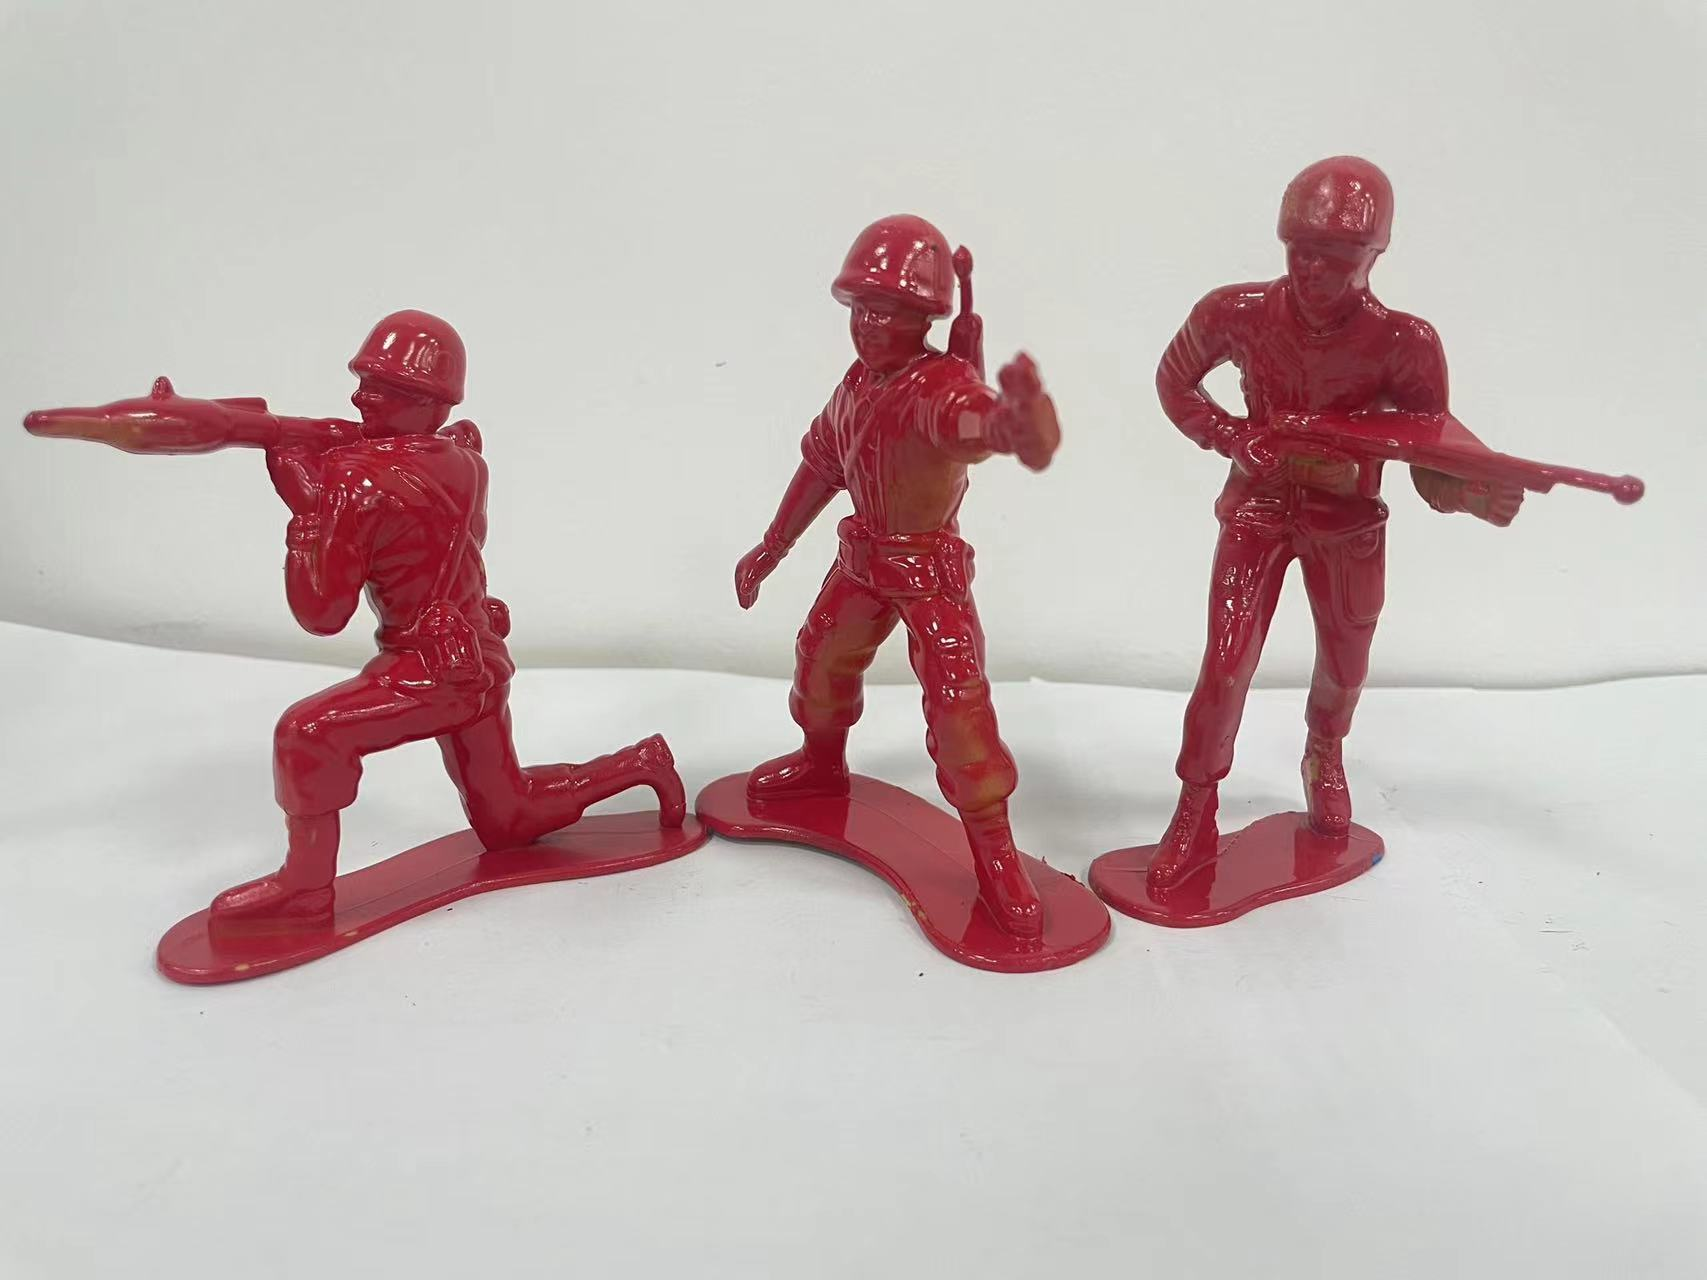red: (1098, 106, 1680, 965), (16, 311, 698, 1002), (685, 157, 1116, 1021)
